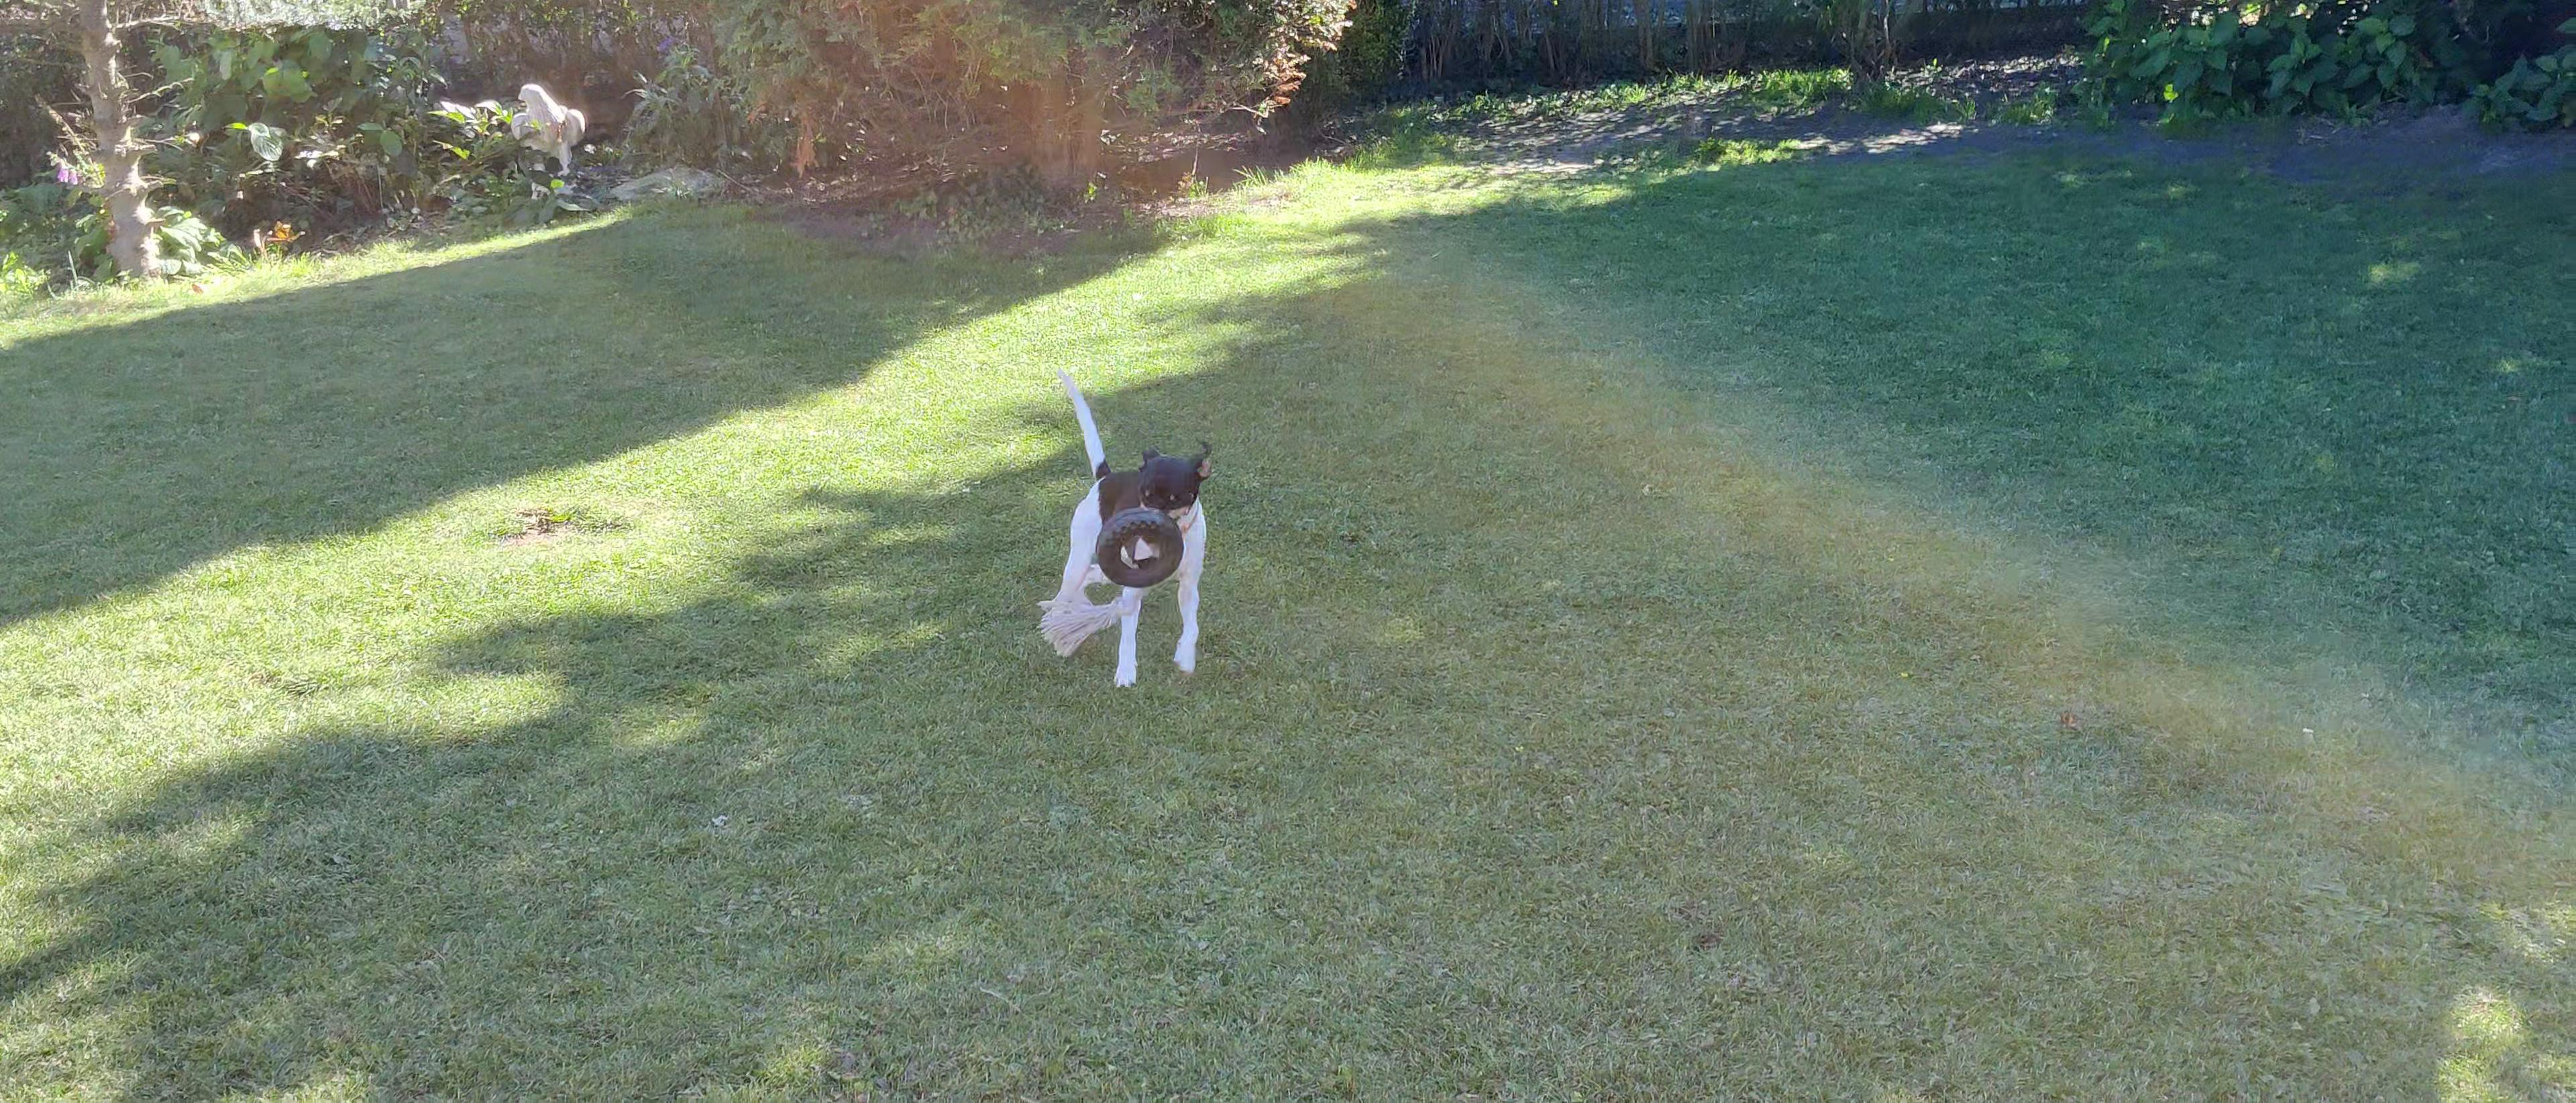Dog: (1023, 358, 1229, 707)
